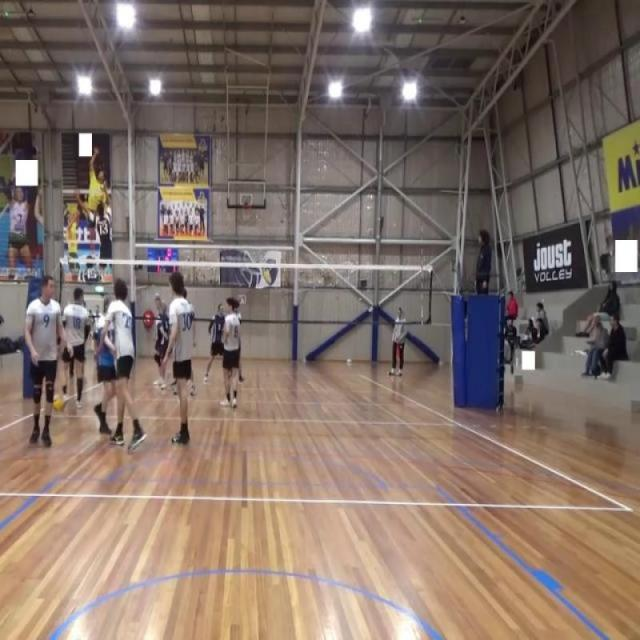volleyball: (52, 392, 66, 415)
